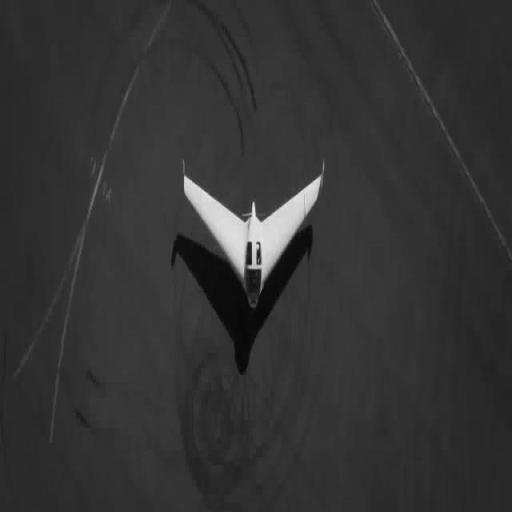uav: (180, 154, 329, 324)
